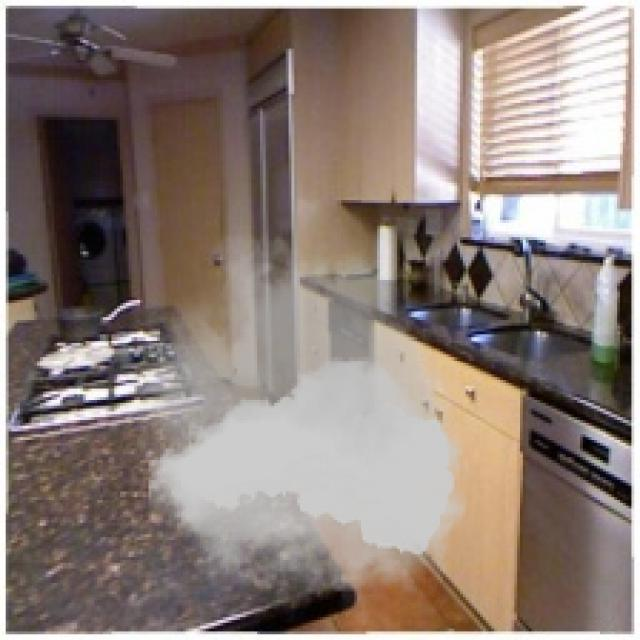smoke: (126, 211, 477, 623)
